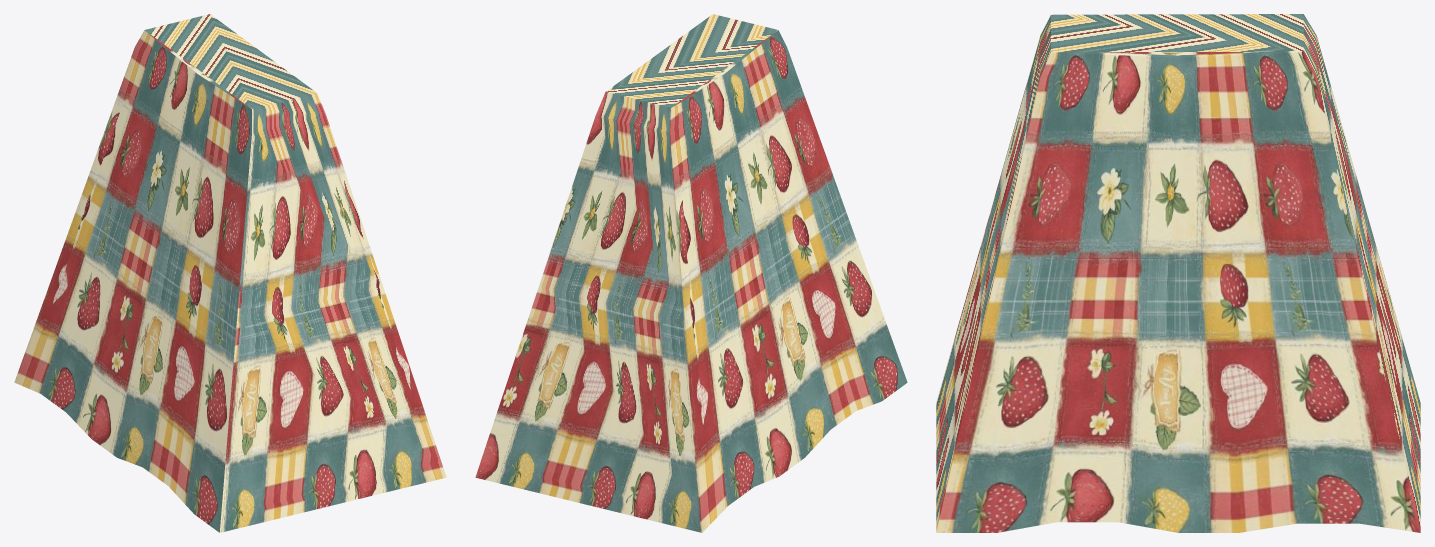
File: longskirt.glb
3 views of the same model, side by side, from view 1: azimuth 30°, elevation 25°; view 2: azimuth 150°, elevation 25°; view 3: azimuth 270°, elevation 25° (orthographic). The views are drawn at different scales.
Parts seen in each view (by area): view 1: Cube.022; view 2: Cube.022; view 3: Cube.022.
Part boxes in pixels (left/top/right/bottom): Cube.022: left=14, top=14, right=446, bottom=532; Cube.022: left=475, top=14, right=907, bottom=532; Cube.022: left=936, top=14, right=1420, bottom=532.
Size of the model in its own units: 2.39 by 3.72 by 3.75.
1 material, 1 textured.
